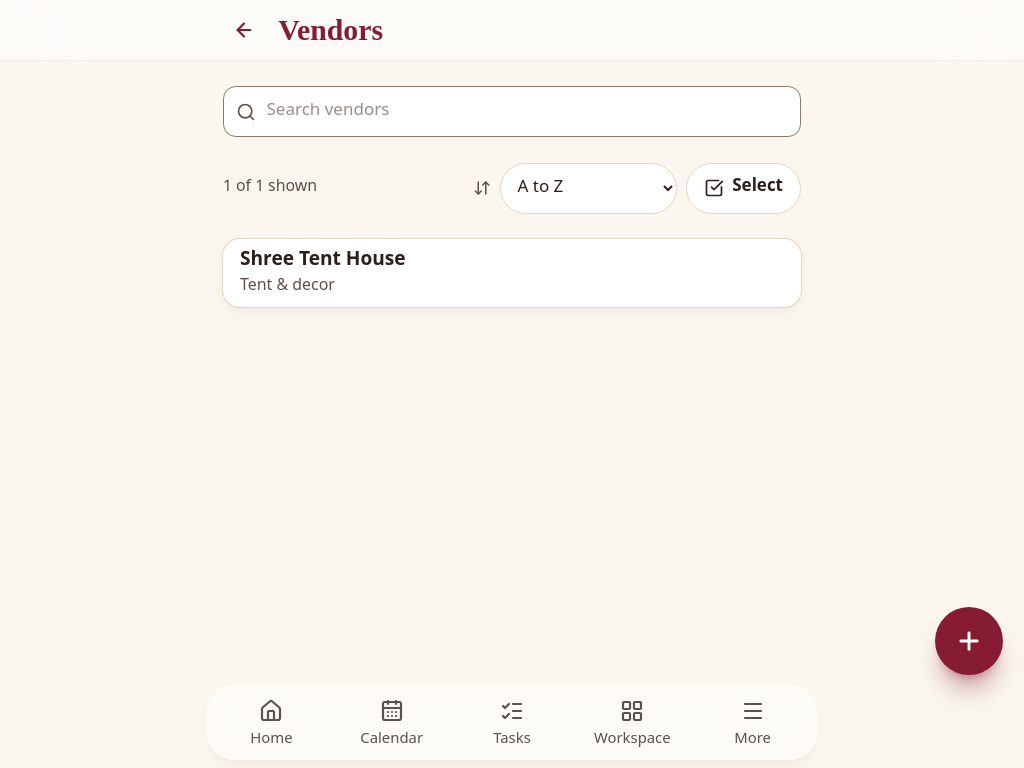
it: Select mode on vendors and payments (1.0.24) › Mummy can change type but has no Delete
Click the button "Select". click: [743, 188]
box: [686,162,801,214]
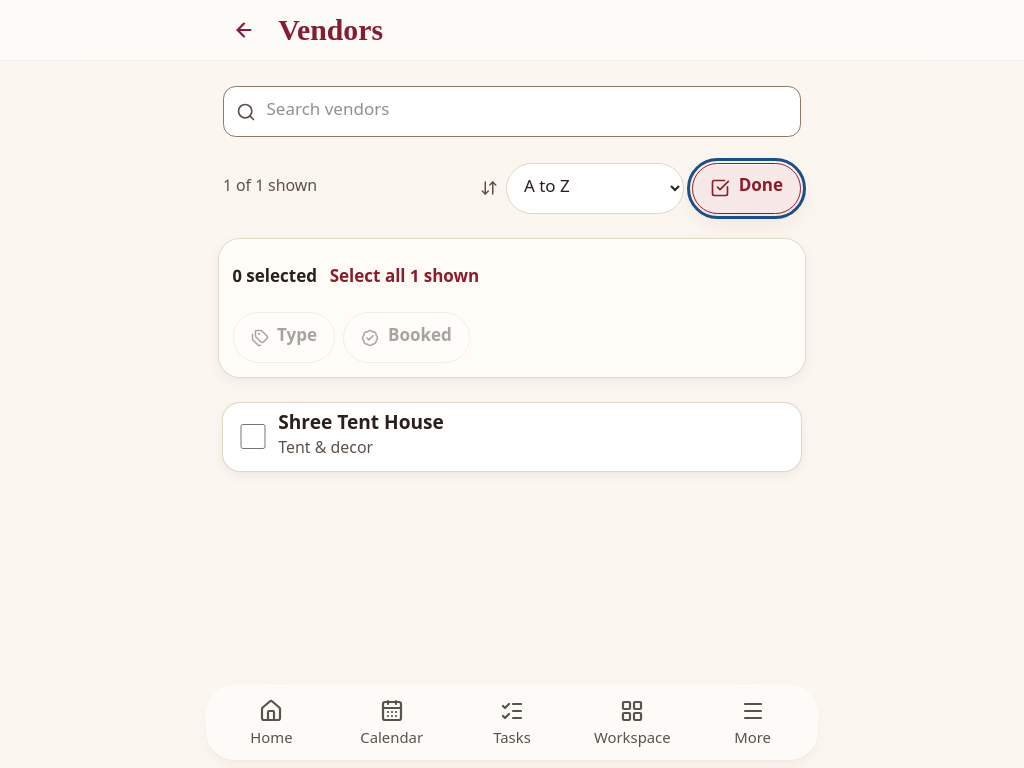
Expected: the button "Type" is shown, [232,312,335,363]
